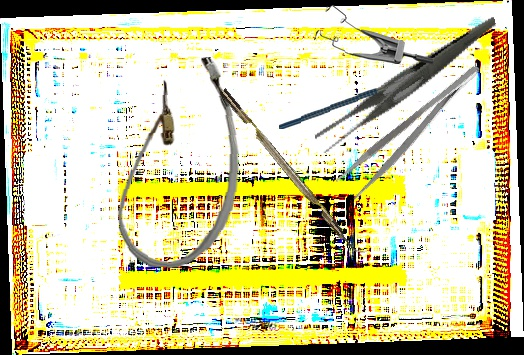Cannula: (114, 53, 245, 271)
Chopper: (219, 81, 370, 261), (277, 69, 411, 130)
Dressing Forceps: (296, 16, 518, 155), (332, 60, 495, 203)
Speculum: (313, 4, 435, 66)
